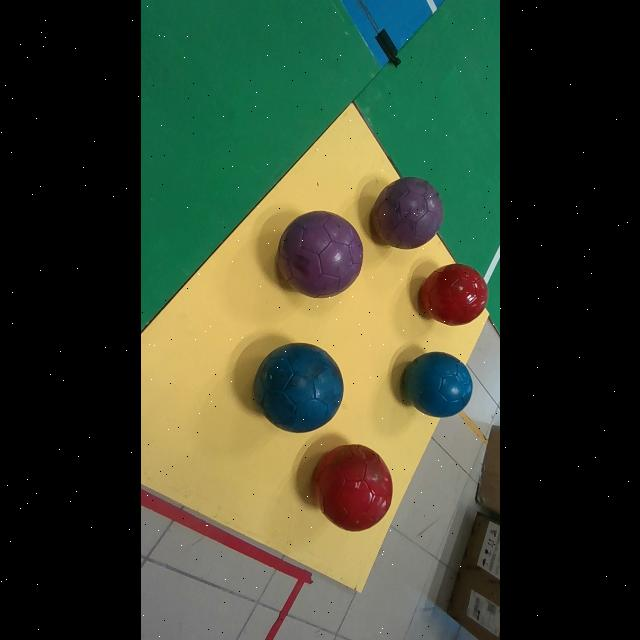B: (254, 344, 343, 433), (403, 352, 473, 418)
P: (278, 211, 363, 297), (372, 176, 443, 249)
R: (313, 444, 392, 531), (421, 264, 489, 325)
